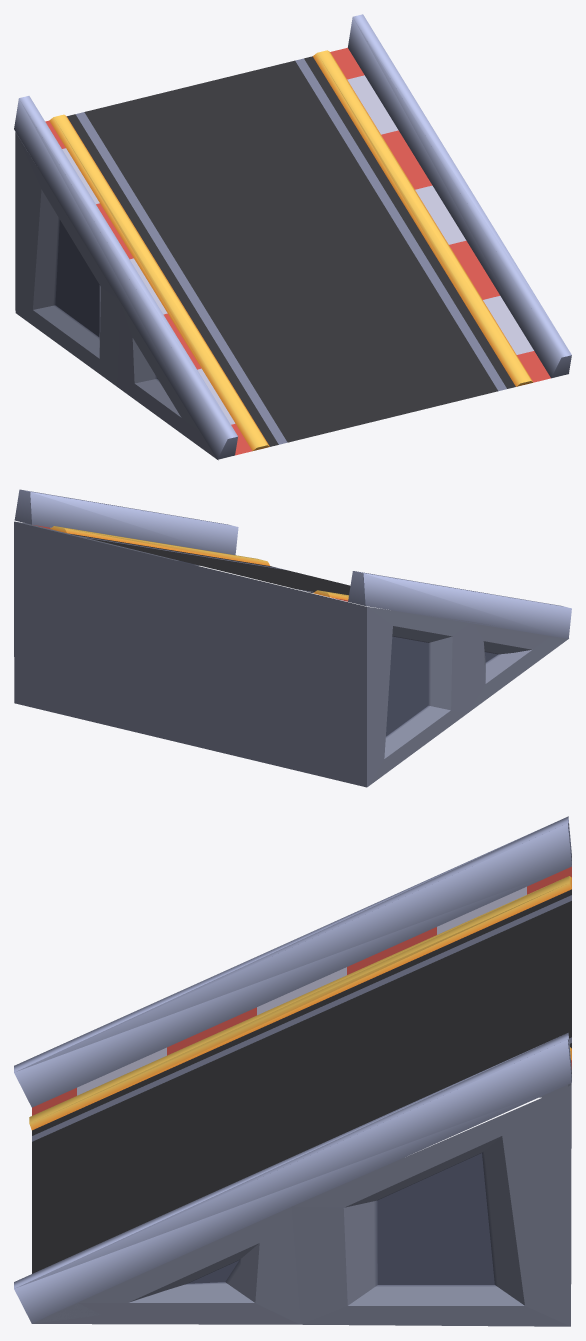
File: elev-track-slope.glb
The picture shows the model from 3 angles, top to bottom: view 1: azimuth 30°, elevation 25°; view 2: azimuth 150°, elevation 25°; view 3: azimuth 270°, elevation 25°; orthographic projection. The views are drawn at different scales.
Visible parts, largest first — view 1: Plane; view 2: Plane; view 3: Plane.
Part boxes in pixels (x1,y1,x2,y2): Plane: (14,14,571,460); Plane: (14,489,571,787); Plane: (14,816,571,1326).
Size of the model in its own units: 10.03 by 5.83 by 10.36.
Materials: 2 (2 with a texture image).
